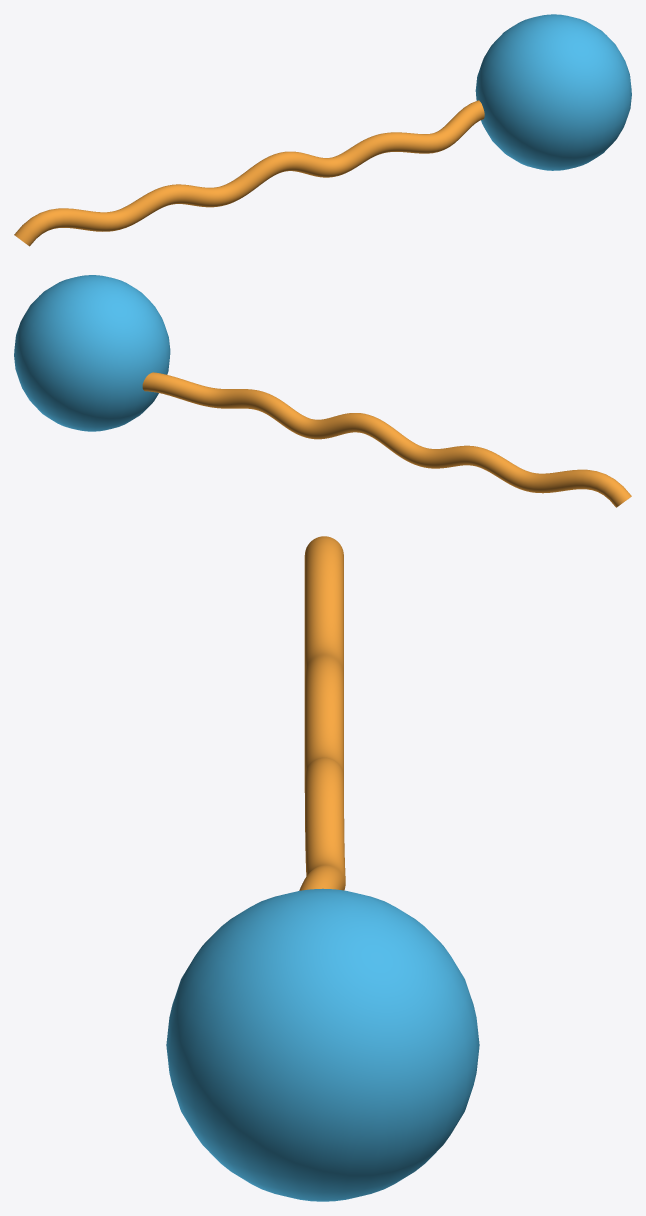
File: emulsifier.fbx
3 renders of one model, top to bottom at view 1: azimuth 30°, elevation 25°; view 2: azimuth 150°, elevation 25°; view 3: azimuth 270°, elevation 25°, orthographic. The views are drawn at different scales.
Parts seen in each view (by area): view 1: NurbsPath; view 2: NurbsPath; view 3: NurbsPath.
Boxes of the visible parts, box(x1,y1,x2,y2) form: NurbsPath: box(14, 14, 631, 246); NurbsPath: box(14, 275, 631, 507); NurbsPath: box(166, 536, 479, 1201).
Bounding box in the file's own units: 546 × 122 × 122.
